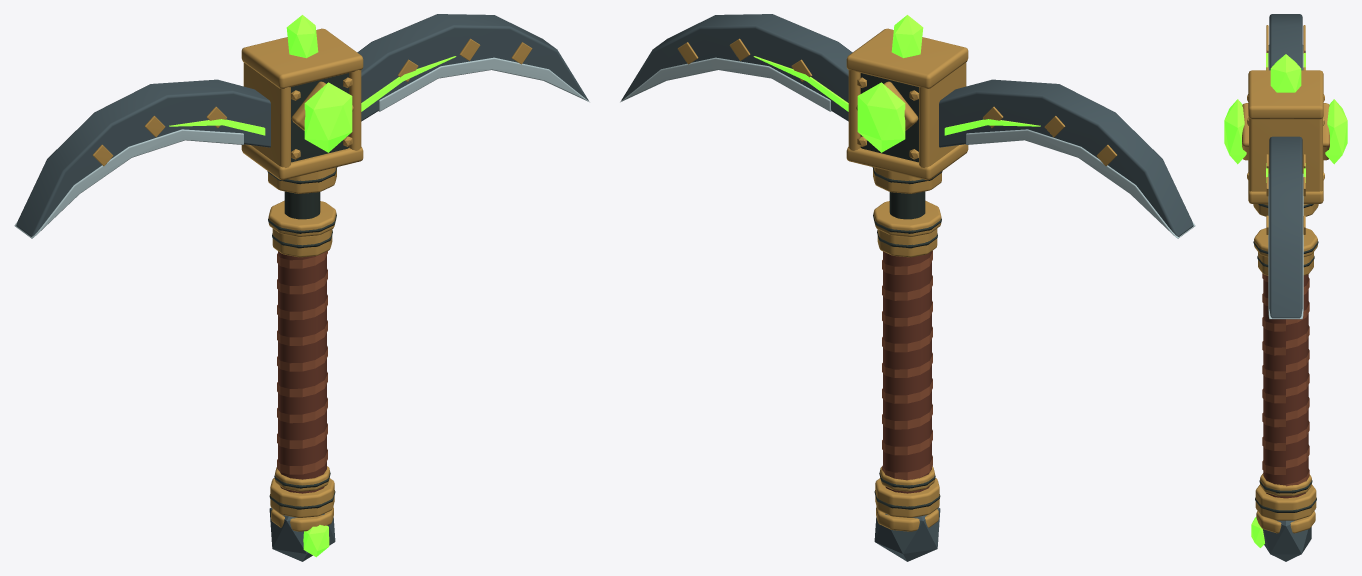
Rendered from emerald_warden_pickaxe.glb.
3 views of the same model, side by side, from view 1: azimuth 30°, elevation 25°; view 2: azimuth 150°, elevation 25°; view 3: azimuth 270°, elevation 25° (orthographic). The views are drawn at different scales.
Parts seen in each view (by area): view 1: Forged blade -1, Forged blade 1, Leather grip, Socket crown.001, Heart emerald, Honed cutting edge -1, Honed cutting edge 1, Brass socket rail, Socket crown, Engraved brass ferrule, Central reinforced socket, Engraved brass ferrule.003 (+7 smaller); view 2: Forged blade -1, Forged blade 1, Leather grip, Socket crown.001, Heart emerald.001, Honed cutting edge -1, Honed cutting edge 1, Brass socket rail, Socket crown, Faceted iron pommel, Engraved brass ferrule, Central reinforced socket (+7 smaller); view 3: Forged blade 1, Leather grip, Brass socket rail.001, Socket crown.001, Forged blade -1, Engraved brass ferrule, Faceted iron pommel, Heart emerald, Heart emerald.001, Crown crystal, Honed cutting edge 1, Pommel collar (+18 smaller).
Part boxes in pixels (x1,y1,x2,y2): Forged blade -1: [16, 79, 270, 236]; Forged blade 1: [357, 14, 588, 121]; Leather grip: [278, 251, 326, 493]; Socket crown.001: [241, 28, 363, 88]; Heart emerald: [304, 82, 352, 152]; Honed cutting edge -1: [14, 129, 243, 238]; Honed cutting edge 1: [378, 57, 589, 111]; Brass socket rail: [243, 62, 290, 167]; Socket crown: [241, 144, 363, 180]; Engraved brass ferrule: [270, 478, 334, 517]; Central reinforced socket: [291, 73, 349, 162]; Engraved brass ferrule.003: [268, 200, 336, 236]; Forged blade -1: [939, 79, 1193, 236]; Forged blade 1: [621, 14, 852, 121]; Leather grip: [883, 251, 931, 493]; Socket crown.001: [846, 28, 968, 88]; Heart emerald.001: [857, 82, 905, 152]; Honed cutting edge -1: [966, 129, 1195, 238]; Honed cutting edge 1: [620, 57, 831, 111]; Brass socket rail: [919, 62, 966, 167]; Socket crown: [846, 144, 968, 180]; Faceted iron pommel: [874, 508, 940, 561]; Engraved brass ferrule: [875, 478, 939, 517]; Central reinforced socket: [860, 73, 918, 162]; Forged blade 1: [1269, 136, 1302, 318]; Leather grip: [1263, 274, 1308, 498]; Brass socket rail.001: [1249, 118, 1322, 191]; Socket crown.001: [1248, 70, 1323, 119]; Forged blade -1: [1269, 14, 1302, 70]; Engraved brass ferrule: [1255, 485, 1316, 520]; Faceted iron pommel: [1263, 520, 1311, 561]; Heart emerald: [1224, 99, 1246, 164]; Heart emerald.001: [1325, 99, 1347, 164]; Crown crystal: [1270, 54, 1301, 92]; Honed cutting edge 1: [1268, 174, 1303, 319]; Pommel collar: [1256, 511, 1315, 533].
Size of the model in its own units: 3.97 by 3.72 by 0.8186.
